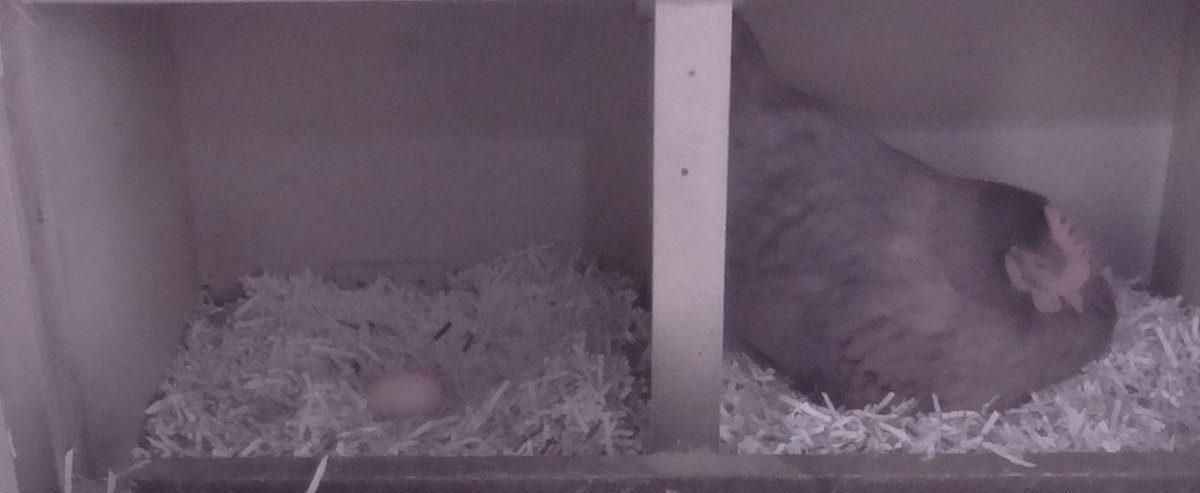egg: (359, 368, 446, 423)
hen: (731, 22, 1125, 418)
